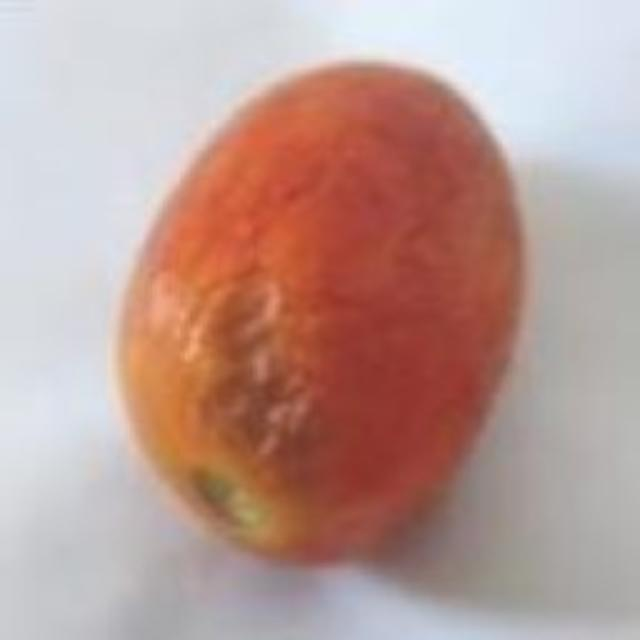defect: (105, 56, 534, 566)
